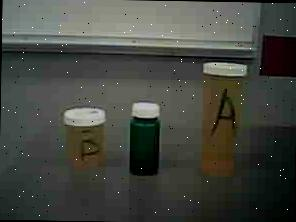Bottle A: (194, 56, 250, 182)
Bottle B: (60, 104, 112, 170)
Bottle C: (125, 97, 169, 179)
